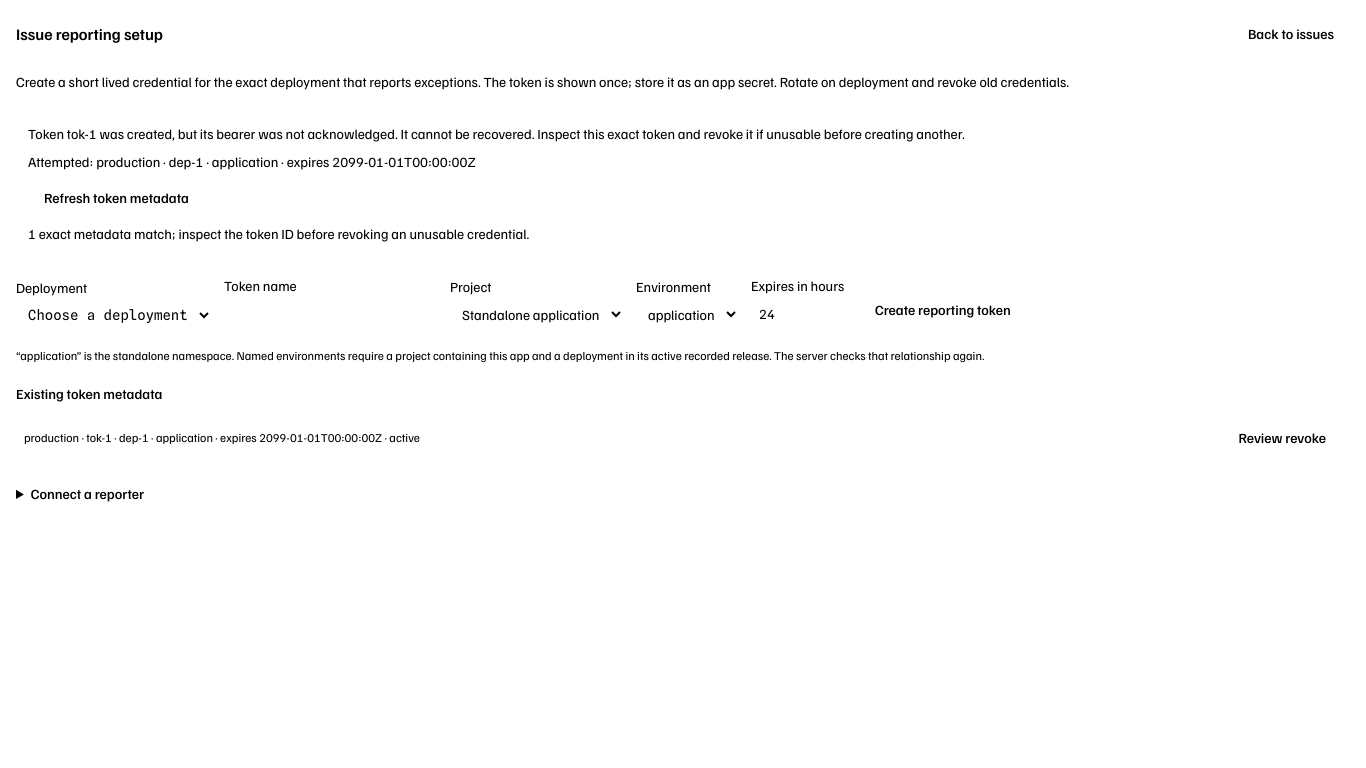
unblocks reviewed recovery when metadata confirms the identified token is revoked
Expected: the button "Create reporting token" is disabled, [859,292,1027,328]
Click the button "Review revoke" at (1282, 438), box [1222,420,1342,456]
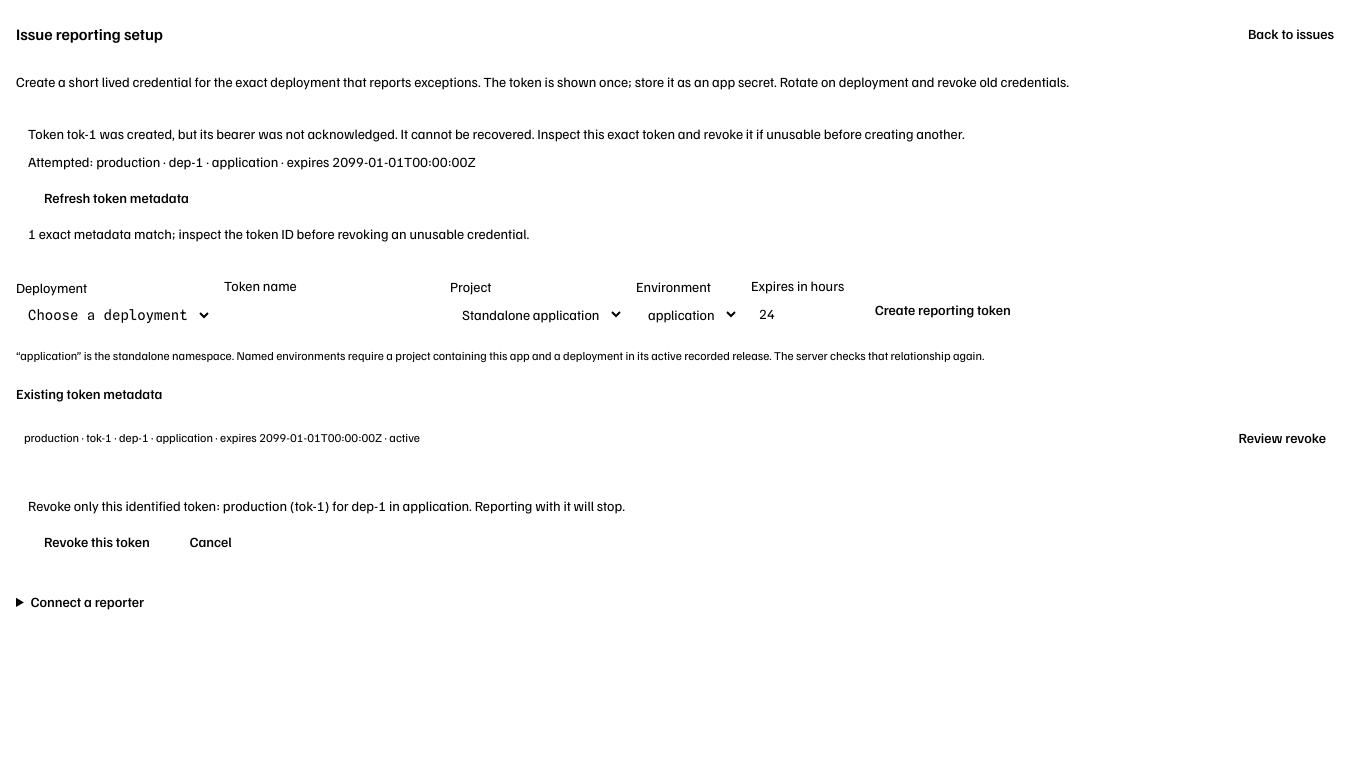
Click the button "Revoke this token" at (97, 542), box [28,524,166,560]
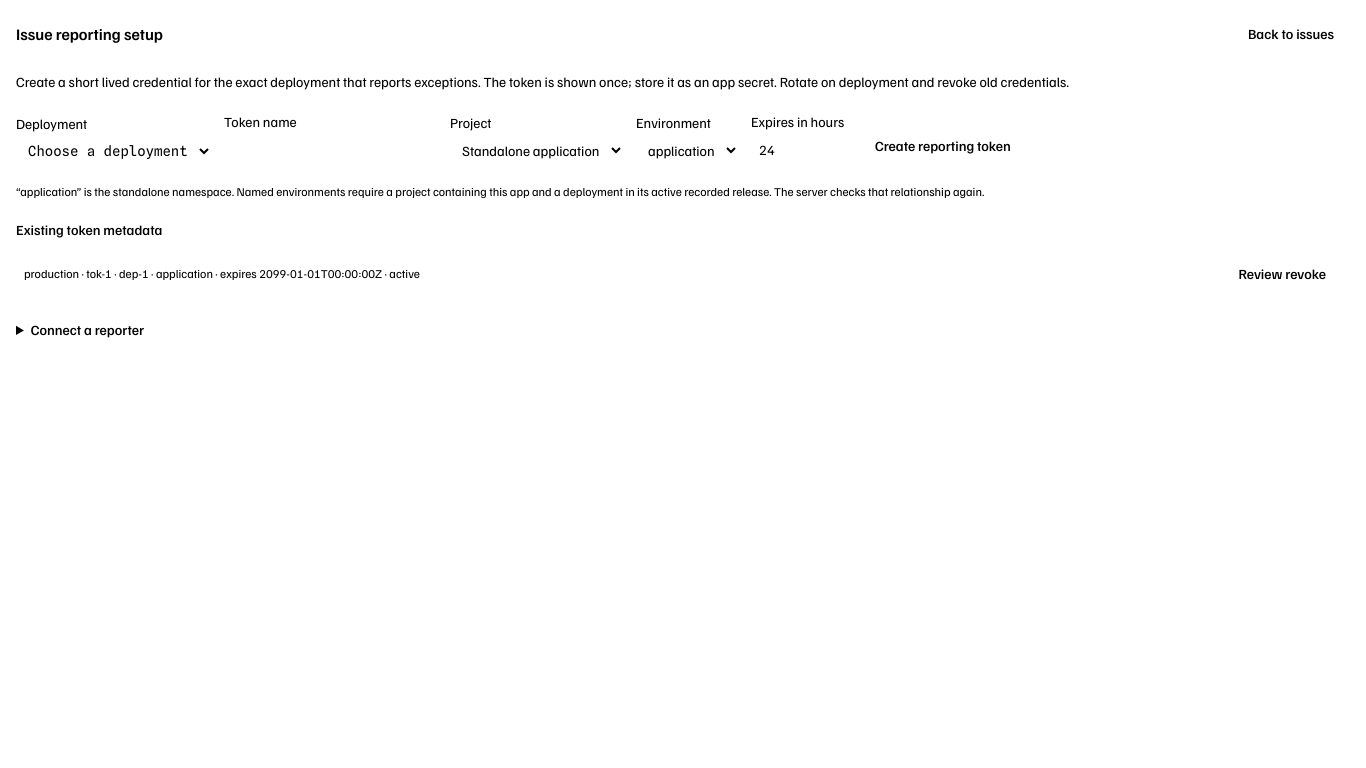
Expected: the button "Create reporting token" is enabled, [859,128,1027,164]
